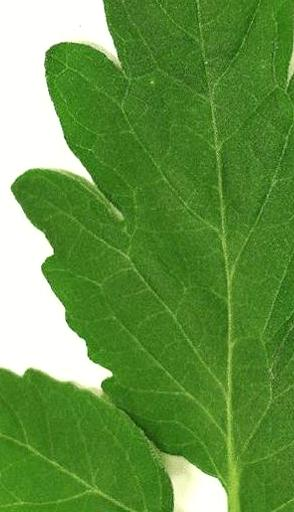Tomato leaf: (50, 0, 294, 512), (0, 349, 228, 512)
